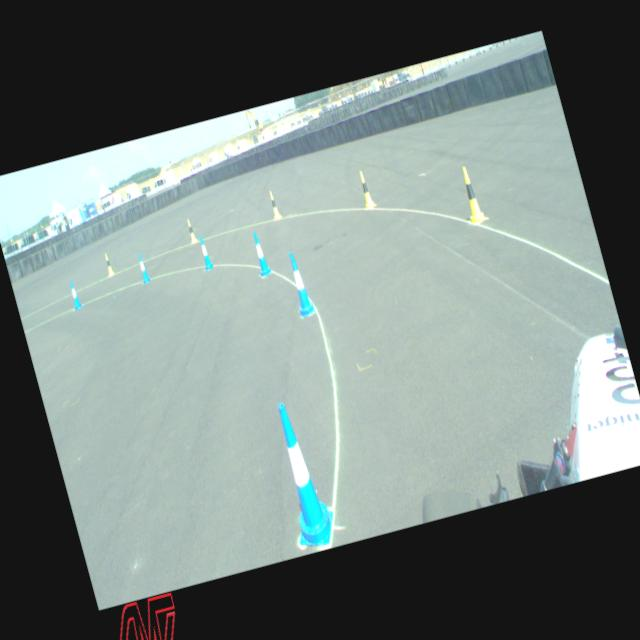blue_cone: (264, 396, 340, 551), (284, 250, 316, 318), (248, 229, 272, 276), (196, 233, 214, 270), (134, 251, 150, 283), (66, 280, 82, 310)
yellow_cone: (455, 163, 487, 224), (356, 168, 376, 208), (266, 189, 282, 219), (185, 218, 198, 244), (102, 252, 115, 276)
